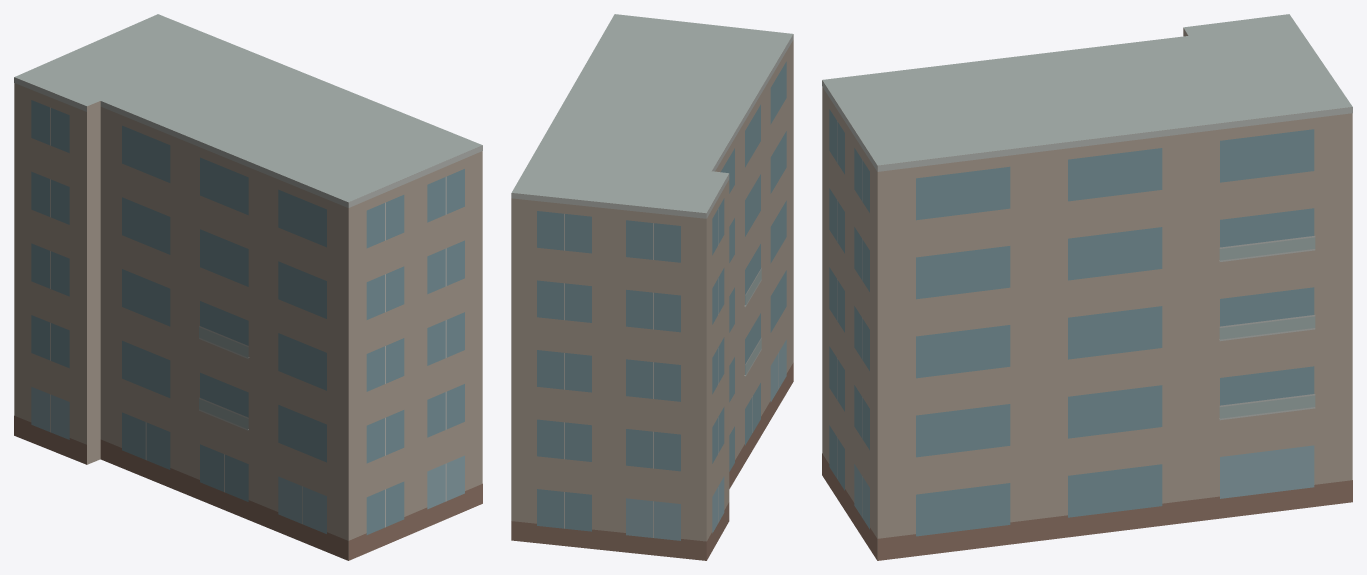
The model's file is survey-upis-32763635.glb.
The picture shows the model from 3 angles, left to right: view 1: azimuth 30°, elevation 25°; view 2: azimuth 150°, elevation 25°; view 3: azimuth 270°, elevation 25°; orthographic projection. The views are drawn at different scales.
Parts seen in each view (by area): view 1: survey-upis-32763635.tmp; view 2: survey-upis-32763635.tmp; view 3: survey-upis-32763635.tmp.
Boxes of the visible parts, x1,y1,x2,y2 form: survey-upis-32763635.tmp: (14,14,482,560); survey-upis-32763635.tmp: (511,14,793,560); survey-upis-32763635.tmp: (822,14,1352,560).
Size of the model in its own units: 12.52 by 15.21 by 18.52.
